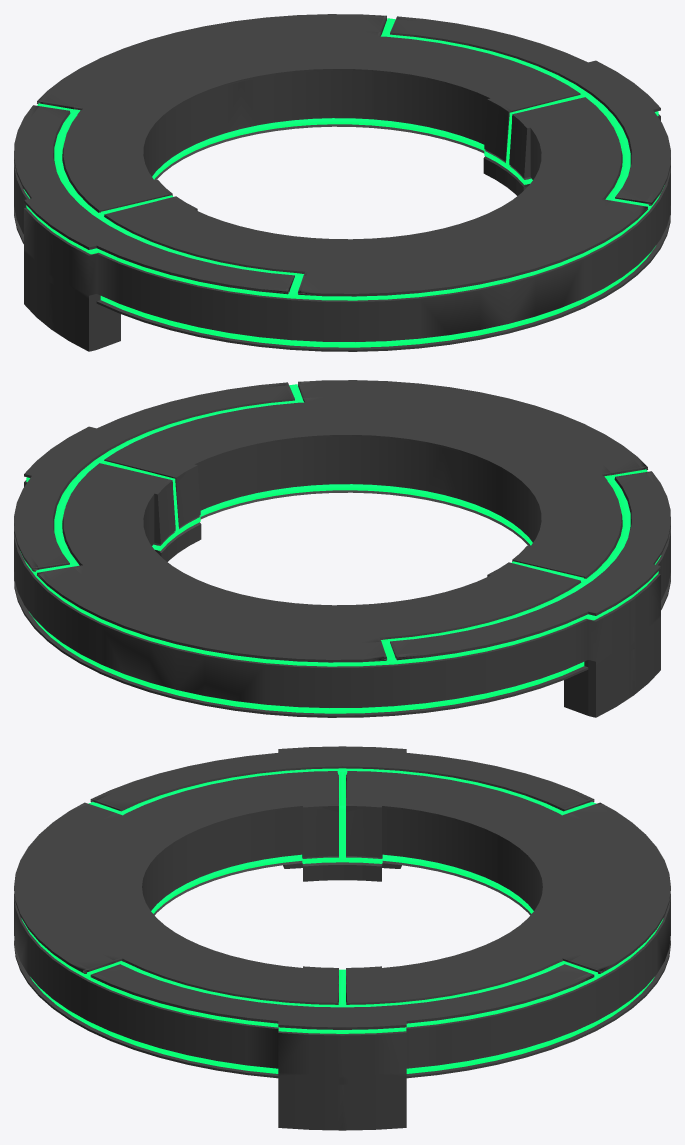
File: Stage.fbx
3 renders of one model, top to bottom at view 1: azimuth 30°, elevation 25°; view 2: azimuth 150°, elevation 25°; view 3: azimuth 270°, elevation 25°, orthographic.
Visible parts, largest first — view 1: Donete, Donete.001; view 2: Donete, Donete.001; view 3: Donete, Donete.001.
Boxes of the visible parts, bbox=[...] form: Donete: bbox=[14, 14, 670, 351]; Donete.001: bbox=[23, 18, 664, 347]; Donete: bbox=[14, 380, 670, 717]; Donete.001: bbox=[20, 384, 661, 713]; Donete: bbox=[14, 746, 670, 1130]; Donete.001: bbox=[21, 768, 663, 1073].
Size of the model in its own units: 2322 by 397 by 2294.
